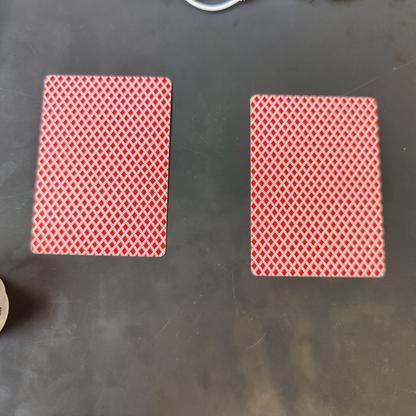card: (21, 63, 180, 263), (237, 87, 396, 285)
